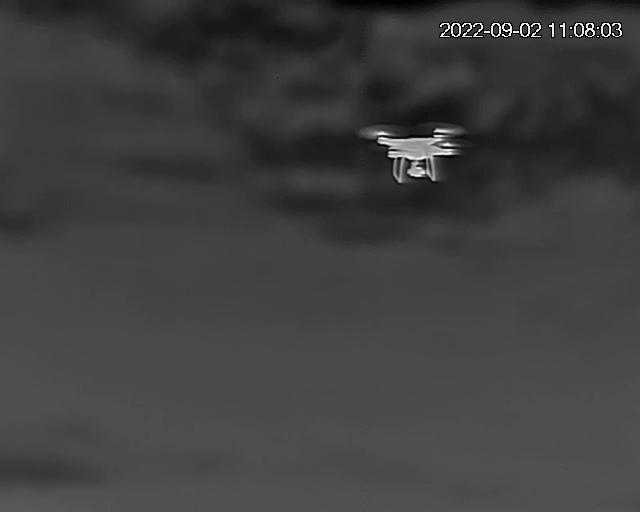DJI-Phantom: (368, 120, 460, 191)
